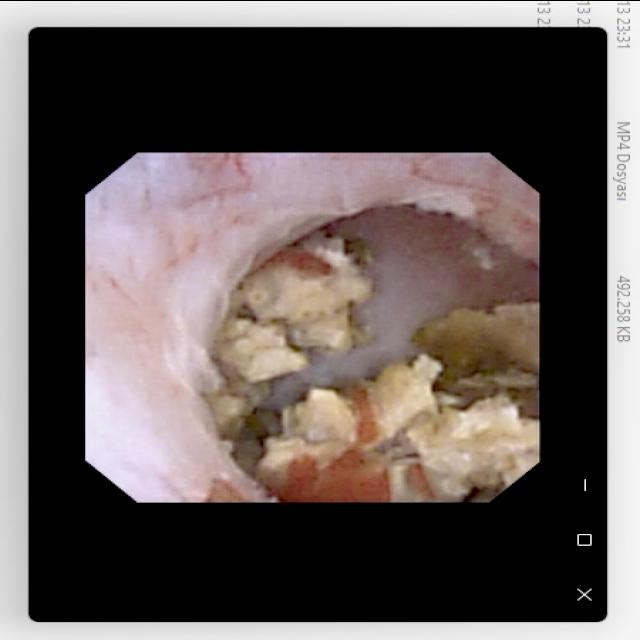stone: (206, 229, 535, 495)
